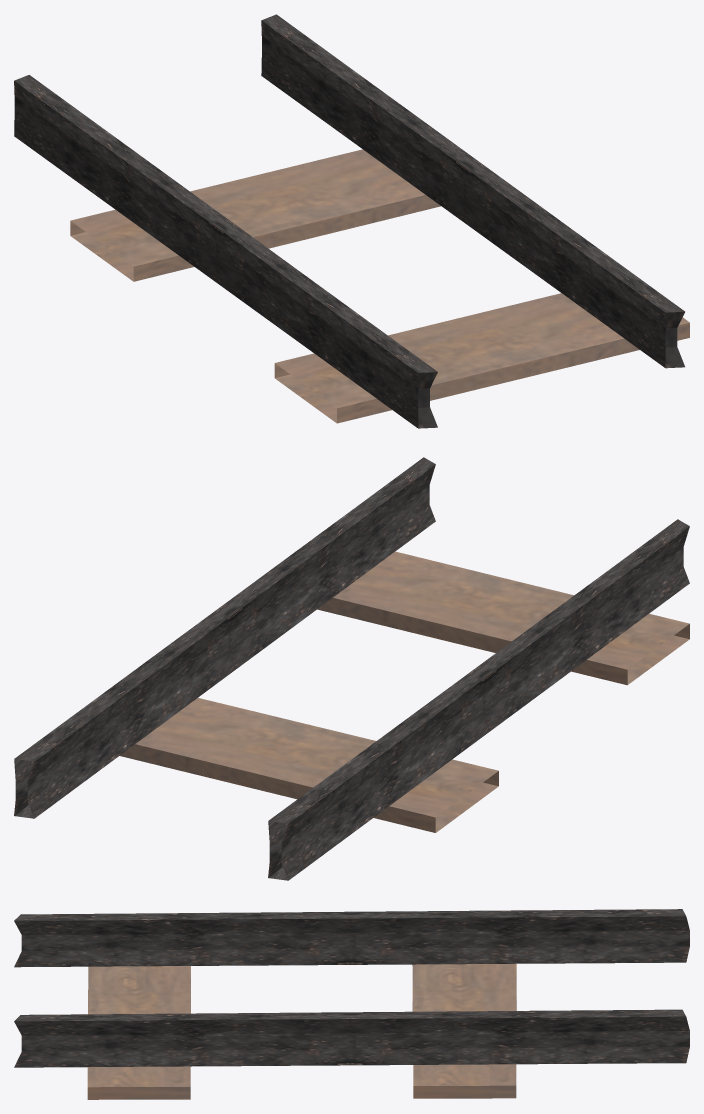
Rendered from LoveDeath_RailWay_Art.glb.
3 views of the same model, one above another, from view 1: azimuth 30°, elevation 25°; view 2: azimuth 150°, elevation 25°; view 3: azimuth 270°, elevation 25° (orthographic). The views are drawn at different scales.
Parts seen in each view (by area): view 1: LoveDeath_RailWay_Art; view 2: LoveDeath_RailWay_Art; view 3: LoveDeath_RailWay_Art.
Part boxes in pixels (x1,y1,x2,y2): LoveDeath_RailWay_Art: [14, 14, 689, 428]; LoveDeath_RailWay_Art: [14, 457, 689, 880]; LoveDeath_RailWay_Art: [14, 909, 689, 1099].
Size of the model in its own units: 1.62 by 0.314 by 3.14.
Materials: 1 (1 with a texture image).
